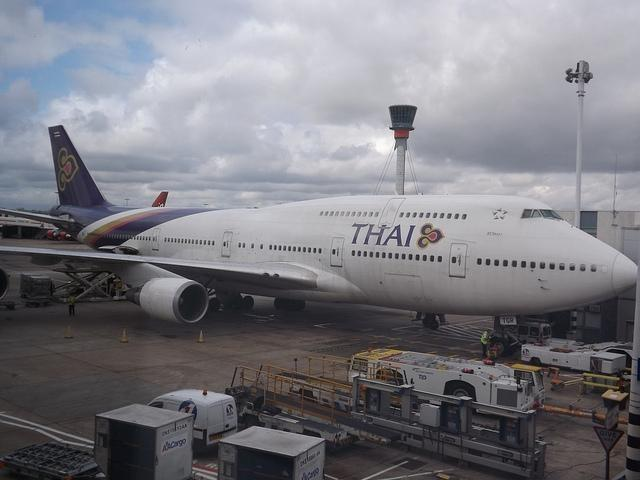truck: (348, 347, 536, 410), (464, 358, 548, 408)
